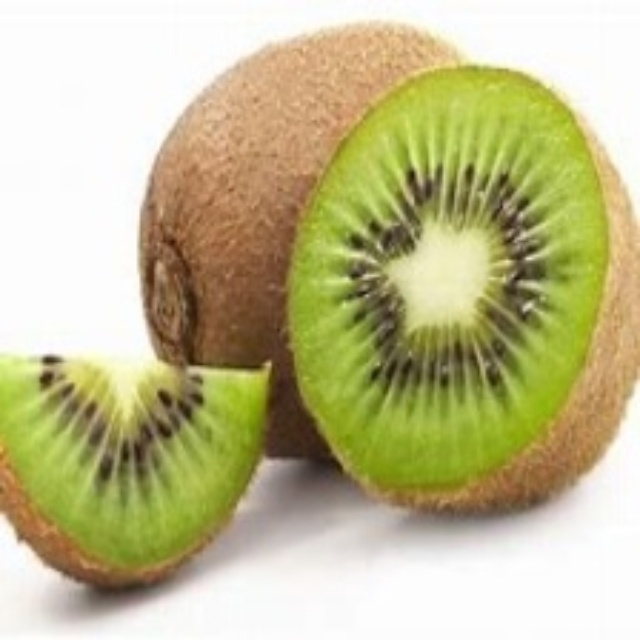kiwi: (121, 21, 473, 474), (293, 64, 639, 520), (7, 347, 272, 607)
